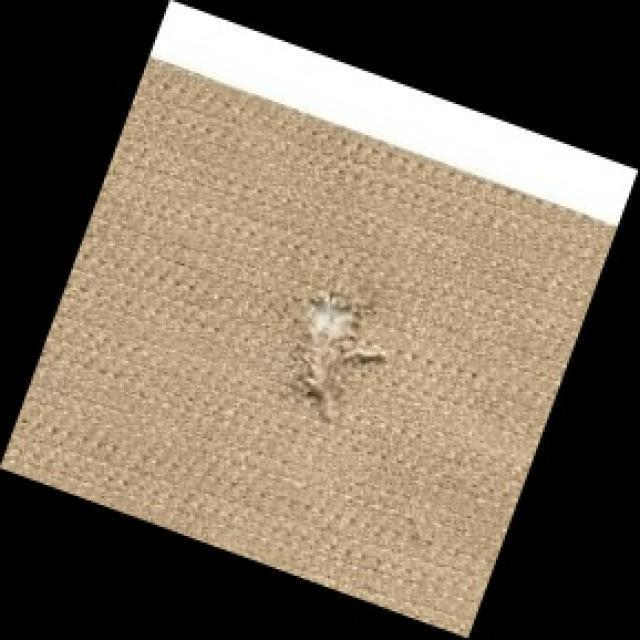seam: (278, 276, 386, 414)
